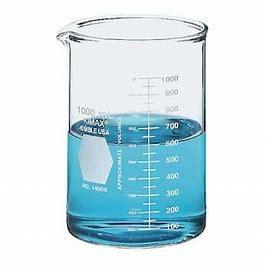Beaker: (48, 12, 209, 247)
